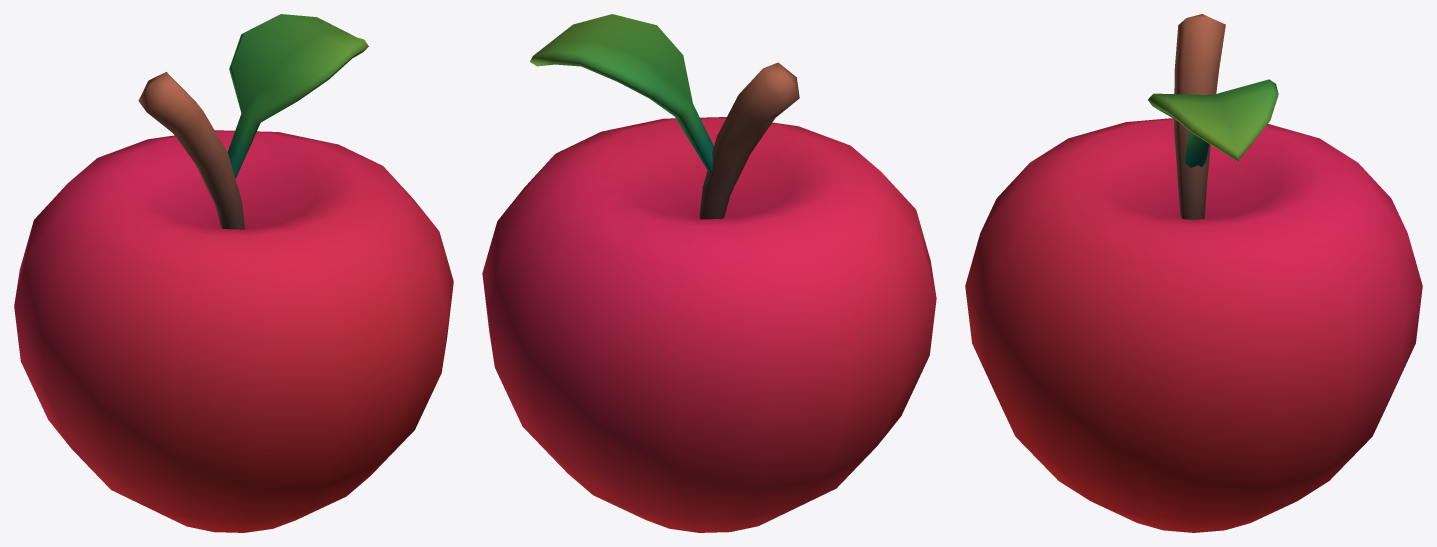
The model's file is apple_001.fbx.
3 renders of one model, left to right at view 1: azimuth 30°, elevation 25°; view 2: azimuth 150°, elevation 25°; view 3: azimuth 270°, elevation 25°, orthographic. The views are drawn at different scales.
Visible parts, largest first — view 1: apple_001; view 2: apple_001; view 3: apple_001.
Boxes of the visible parts, box(x1,y1,x2,y2) form: apple_001: box(14, 14, 453, 532); apple_001: box(482, 14, 936, 532); apple_001: box(965, 14, 1422, 532).
Size of the model in its own units: 9.82 by 9.82 by 10.9.
